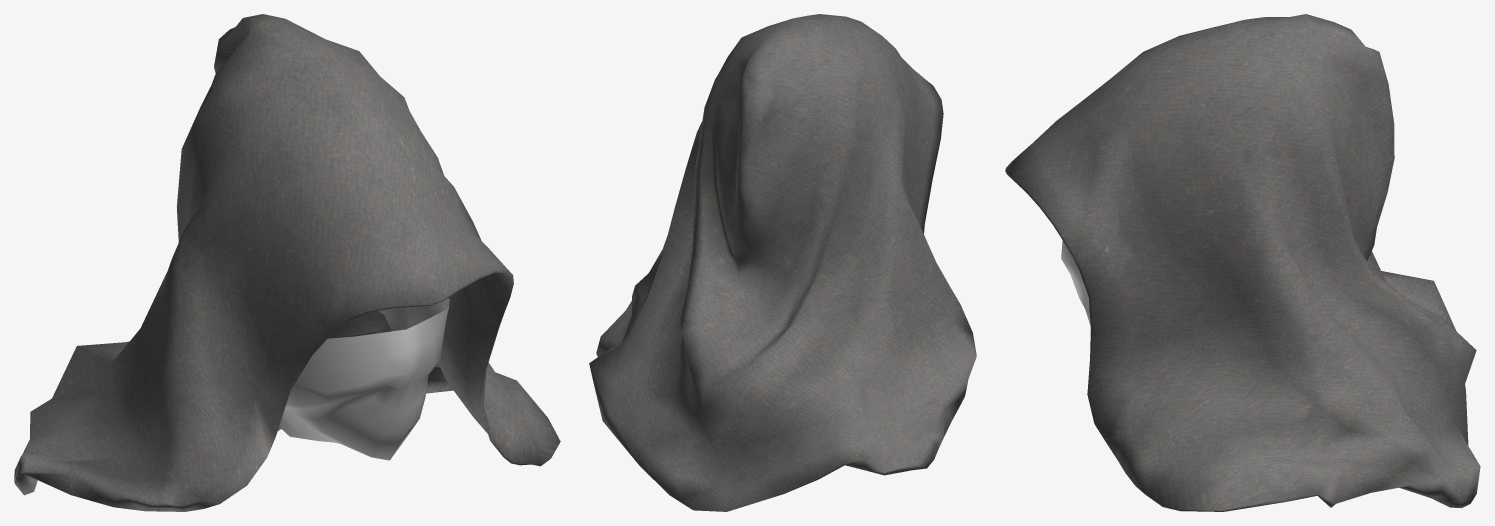
File: rivendell_helmet_mask_hood.fbx
3 views of the same model, side by side, from view 1: azimuth 30°, elevation 25°; view 2: azimuth 150°, elevation 25°; view 3: azimuth 270°, elevation 25° (orthographic). The views are drawn at different scales.
Parts seen in each view (by area): view 1: rivendell_helmet_mask_hood.0, rivendell_helmet_mask_hood.1; view 2: rivendell_helmet_mask_hood.0; view 3: rivendell_helmet_mask_hood.0, rivendell_helmet_mask_hood.1.
Boxes of the visible parts, x1,y1,x2,y2 form: rivendell_helmet_mask_hood.0: (14,14,560,511); rivendell_helmet_mask_hood.1: (279,298,449,460); rivendell_helmet_mask_hood.0: (589,14,976,511); rivendell_helmet_mask_hood.0: (1005,14,1480,511); rivendell_helmet_mask_hood.1: (1061,240,1090,325).
Bounding box in the file's own units: 0.4001 × 0.392 × 0.4324.
